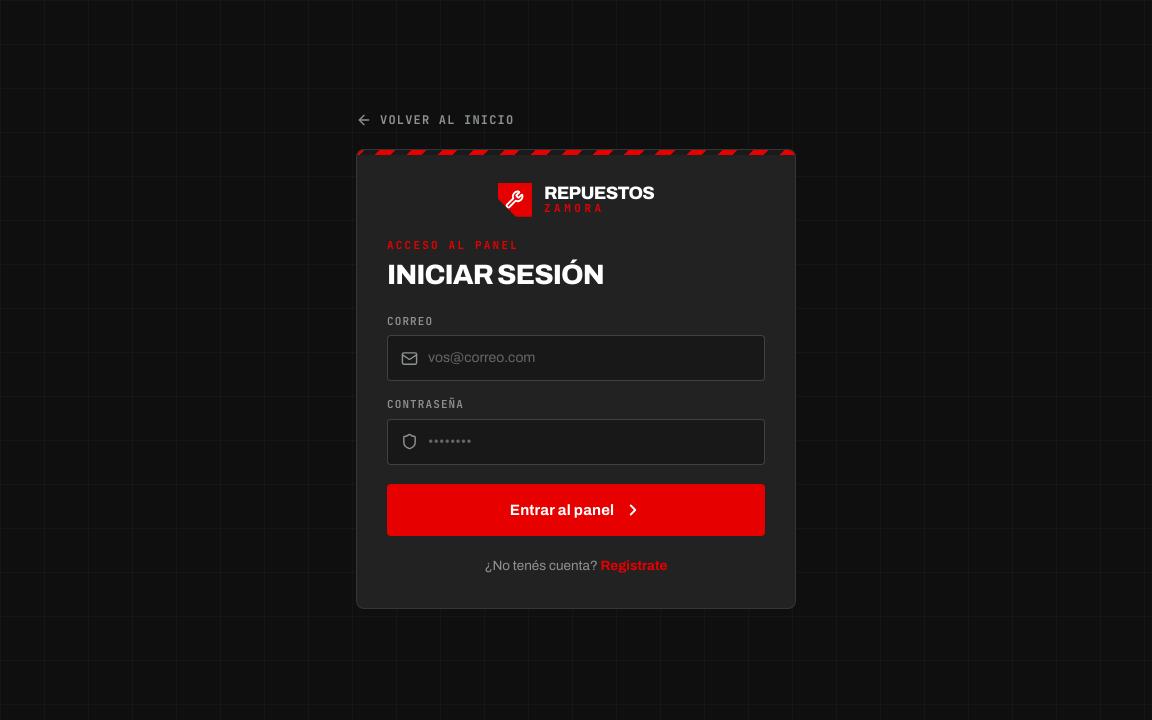
Test: Inicio de sesión › muestra un error cuando las credenciales son incorrectas
Type "nadie@correo.com" into the field with test id "login-correo" at [576, 358], box [387,335,765,381]
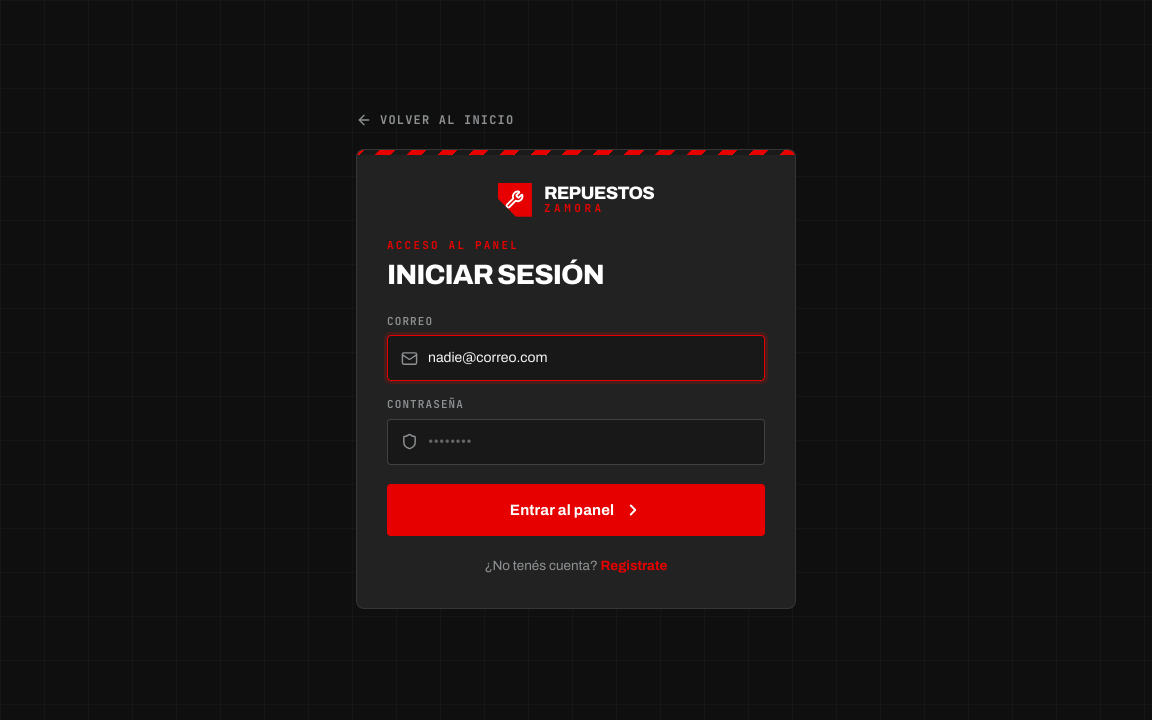
Type "claveMala" into the password field with test id "login-contrasena" at [576, 442], box [387,419,765,465]
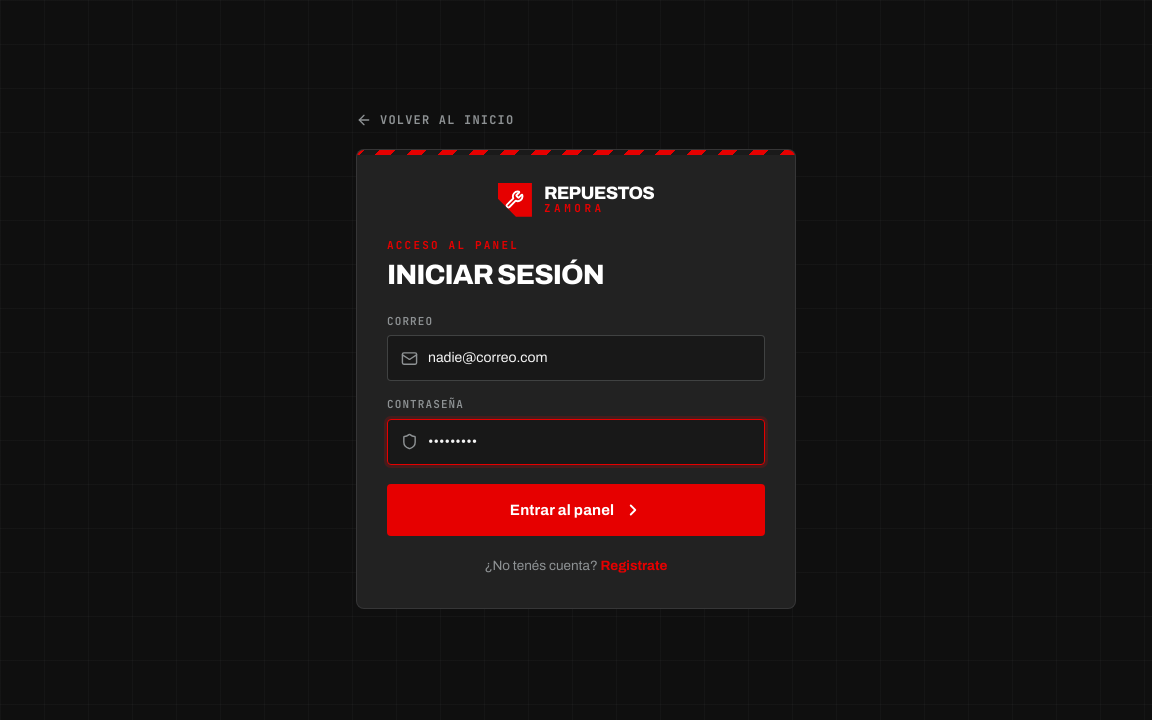
Click the button with test id "login-submit" at [576, 511], box [387,484,765,537]
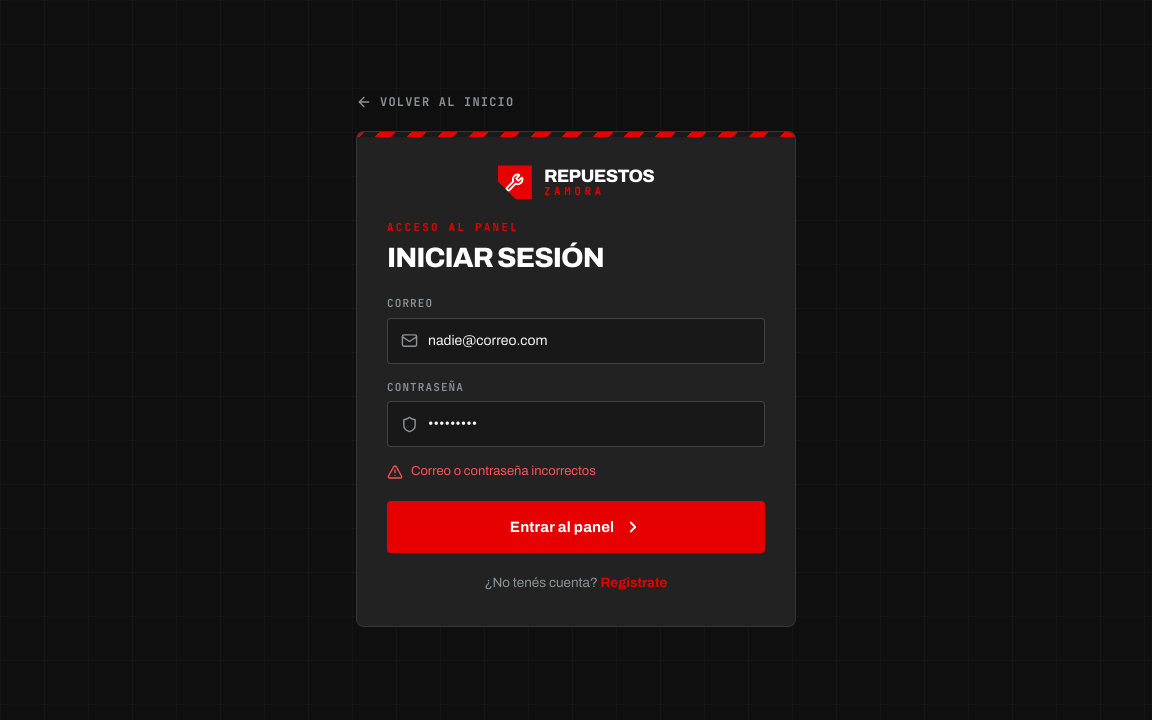
Expected: the element with test id "login-error" reads "Correo o contraseña incorrectos", [411,464,596,478]
